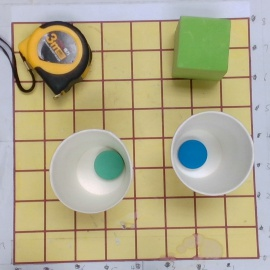cup_blue: (158, 112, 255, 199)
cup_green: (51, 130, 139, 214)
